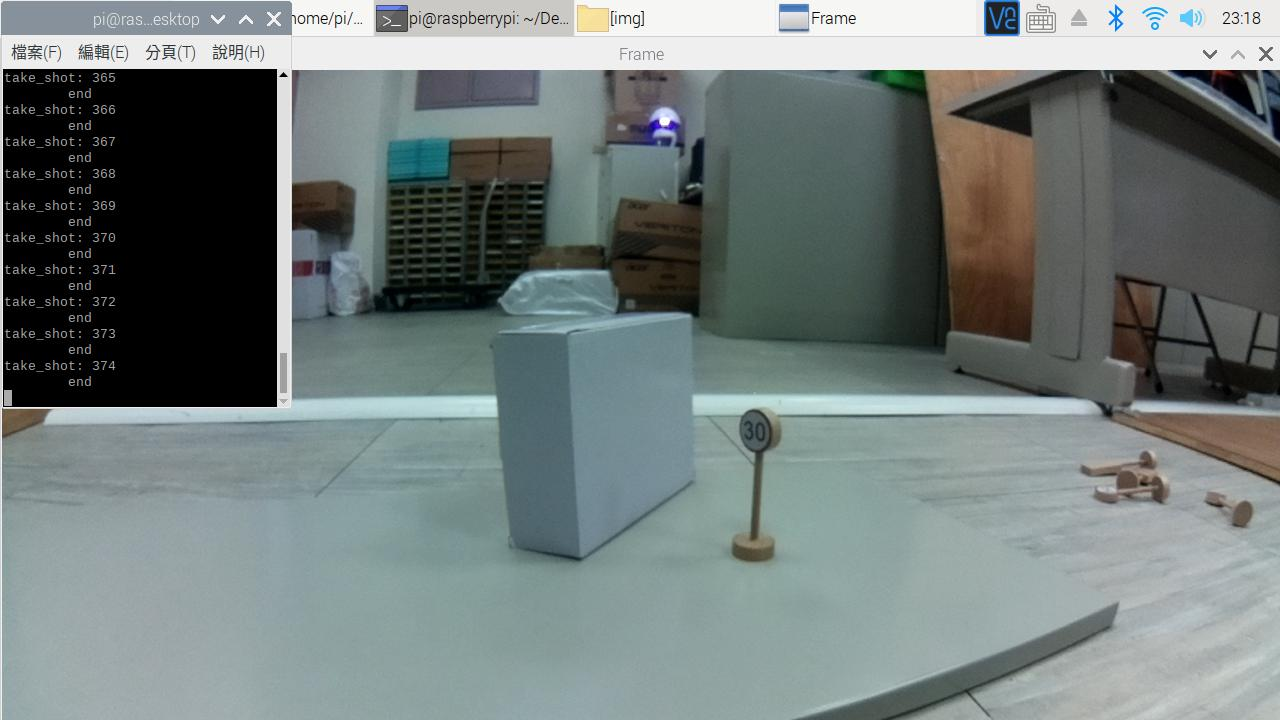Speed30: (724, 404, 803, 465)
